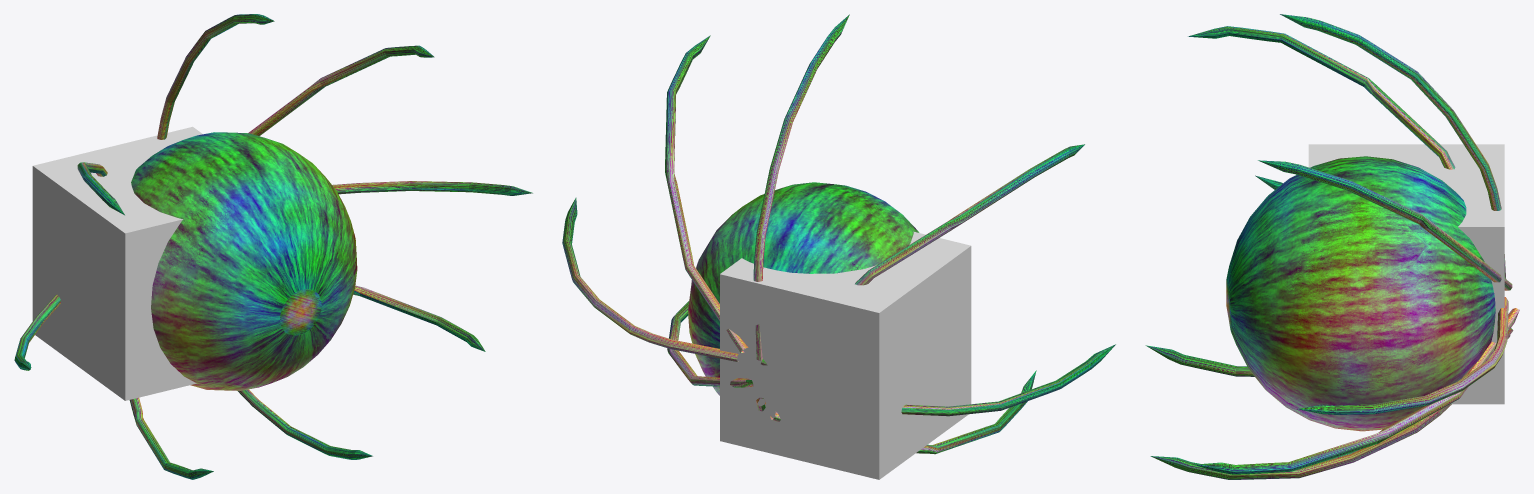
Rendered from monster.glb.
3 renders of one model, left to right at view 1: azimuth 30°, elevation 25°; view 2: azimuth 150°, elevation 25°; view 3: azimuth 270°, elevation 25°, orthographic. The views are drawn at different scales.
Visible parts, largest first — view 1: Sphere, Cube; view 2: Cube, Sphere; view 3: Sphere, Cube.
Boxes of the visible parts, x1,y1,x2,y2 form: Sphere: (14,14,532,479); Cube: (32,126,202,400); Cube: (720,231,971,479); Sphere: (562,14,1115,454); Sphere: (1145,14,1519,479); Cube: (1308,144,1504,404).
Bounding box in the file's own units: 6.53 × 5.09 × 3.83.
2 materials, 1 textured.
